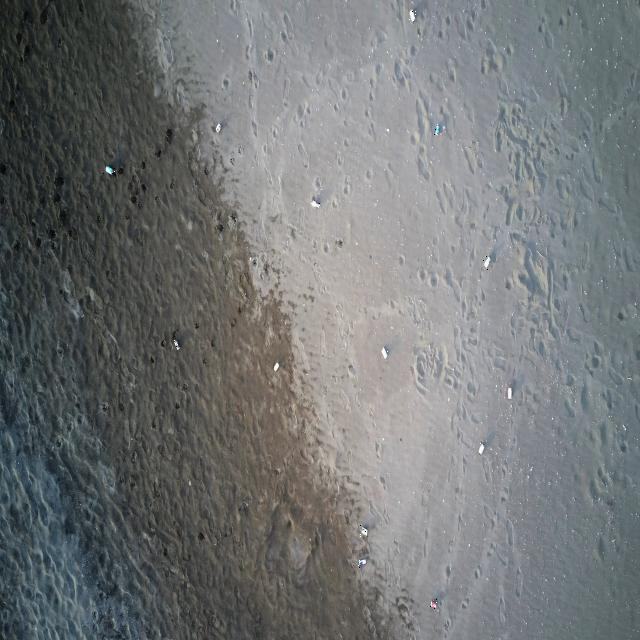tin-and-aluminum-cans: (103, 162, 115, 175), (483, 254, 492, 270), (409, 9, 416, 25), (506, 384, 513, 400), (360, 525, 369, 537), (382, 346, 389, 361), (311, 198, 321, 208), (173, 340, 181, 352), (478, 441, 484, 456), (434, 123, 440, 138), (430, 599, 438, 610), (215, 123, 223, 134), (358, 558, 366, 568), (274, 361, 279, 373)
